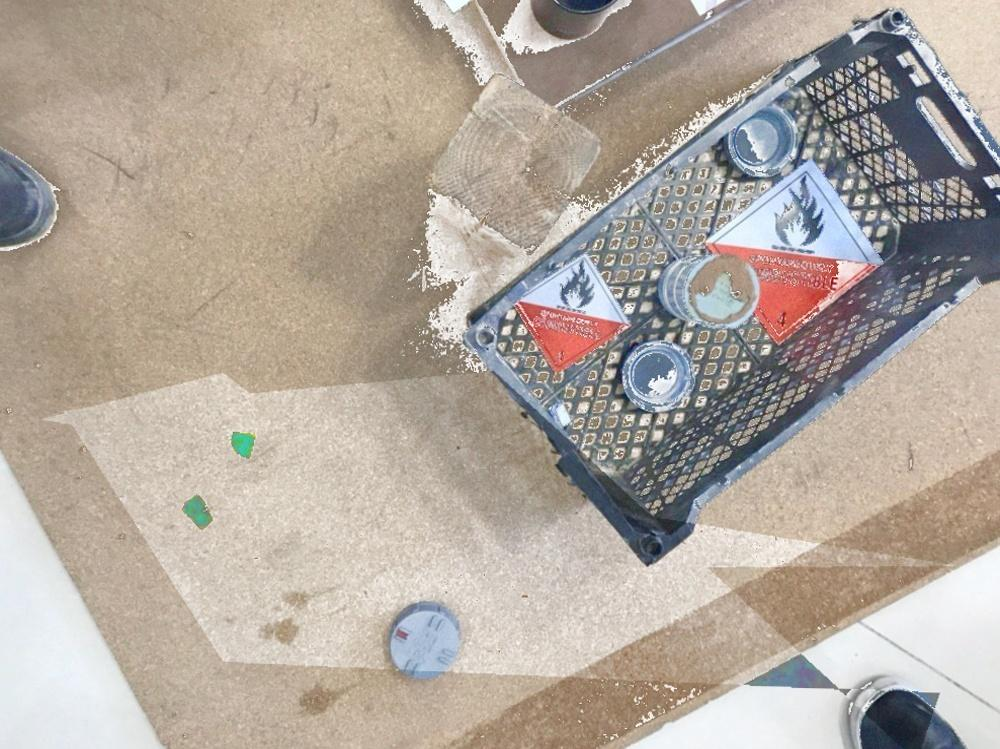spontaneously-combustible: (700, 163, 883, 348), (511, 253, 631, 374)
